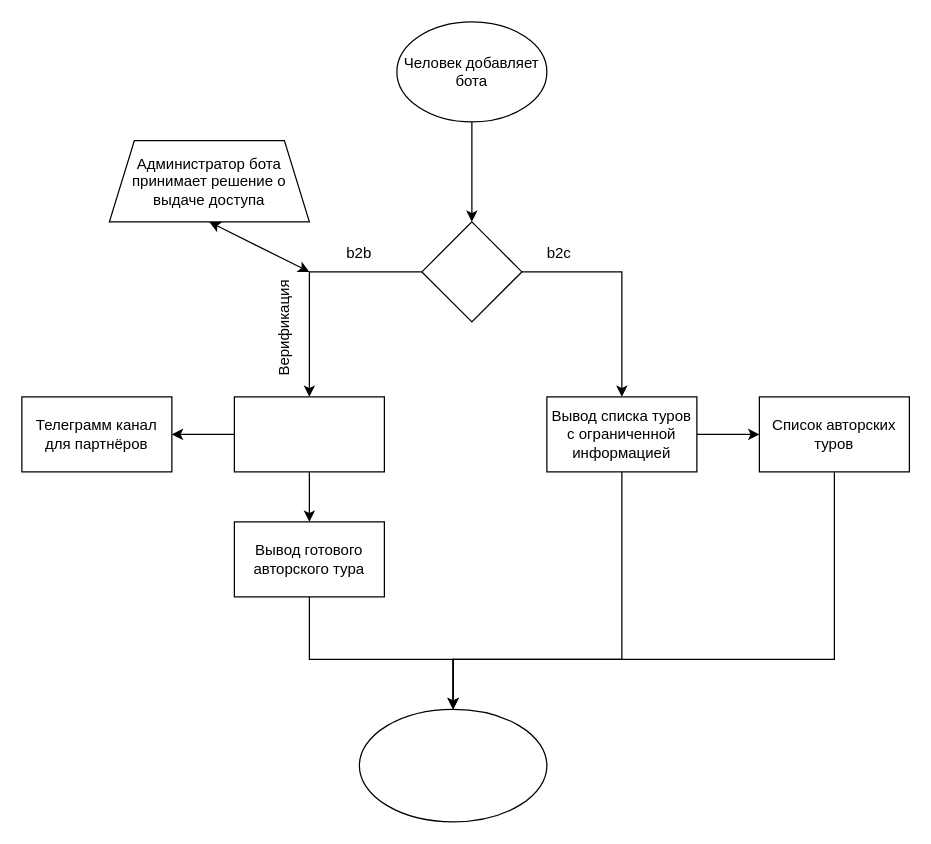
Some shapes in this 931 by 844 pixel diagram are drawn without their labels. Here are the shapes that lost their labels. From the top down, the box of each, then its label:
(421, 221, 522, 322): Выбор
(233, 396, 384, 472): Расширенный поиск информации
(358, 708, 547, 822): Предоставление контактов агенства/менеджера
